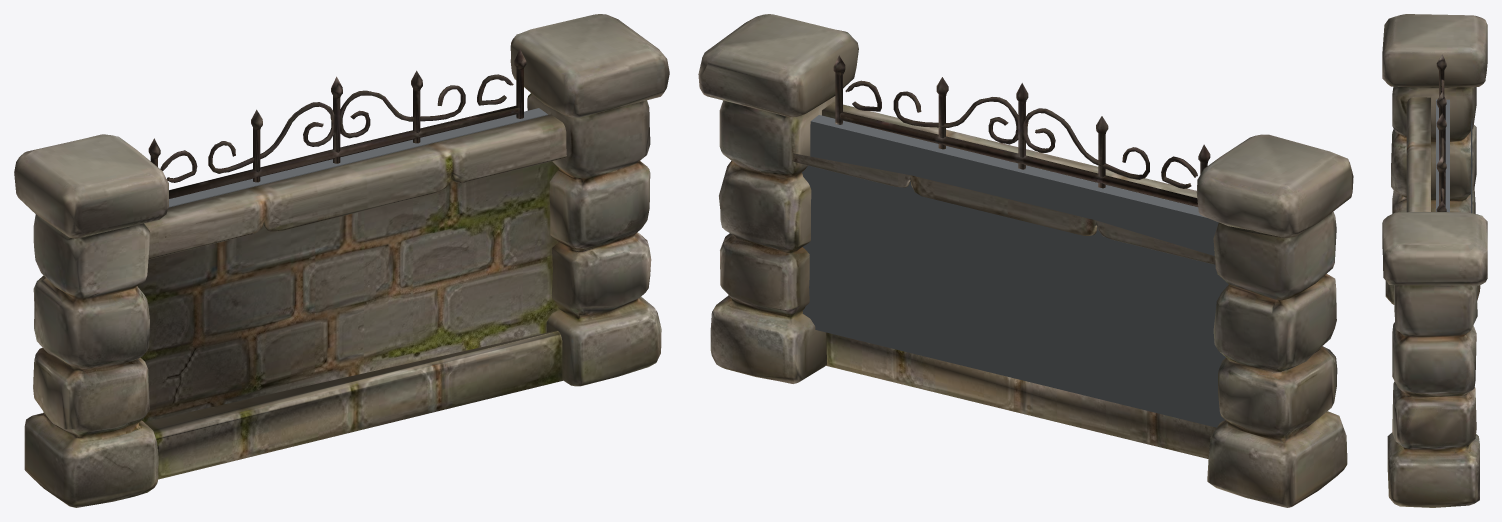
File: muro-pedra.glb
3 views of the same model, side by side, from view 1: azimuth 30°, elevation 25°; view 2: azimuth 150°, elevation 25°; view 3: azimuth 270°, elevation 25° (orthographic). The views are drawn at different scales.
Visible parts, largest first — view 1: tripo_node_c56a33ce-5a1b-4a5d-9bb5-de8b0ea3d526, muro-pedra-interior-masonry; view 2: tripo_node_c56a33ce-5a1b-4a5d-9bb5-de8b0ea3d526, muro-pedra-interior-masonry; view 3: tripo_node_c56a33ce-5a1b-4a5d-9bb5-de8b0ea3d526, muro-pedra-interior-masonry.
Part boxes in pixels (x1=…): tripo_node_c56a33ce-5a1b-4a5d-9bb5-de8b0ea3d526: x1=14, y1=14, x2=669, y2=507; muro-pedra-interior-masonry: x1=168, y1=108, x2=547, y2=207; tripo_node_c56a33ce-5a1b-4a5d-9bb5-de8b0ea3d526: x1=698, y1=14, x2=1353, y2=507; muro-pedra-interior-masonry: x1=802, y1=115, x2=1228, y2=427; tripo_node_c56a33ce-5a1b-4a5d-9bb5-de8b0ea3d526: x1=1382, y1=14, x2=1487, y2=507; muro-pedra-interior-masonry: x1=1436, y1=99, x2=1449, y2=212.
Size of the model in its own units: 0.998 by 0.541 by 0.1855.
Materials: 3 (1 with a texture image).
